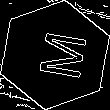M_W: (25, 28, 85, 82)
